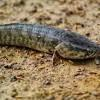Snakehead: (0, 21, 100, 65)
